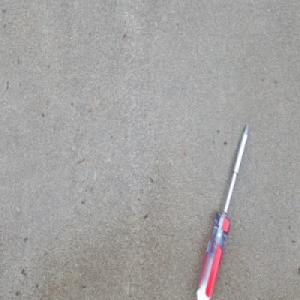Screwdriver: (195, 119, 250, 300)
